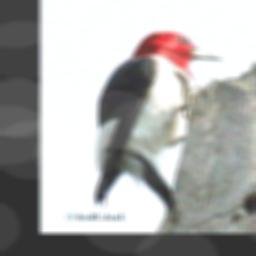Woodpecker: (91, 30, 227, 210)
